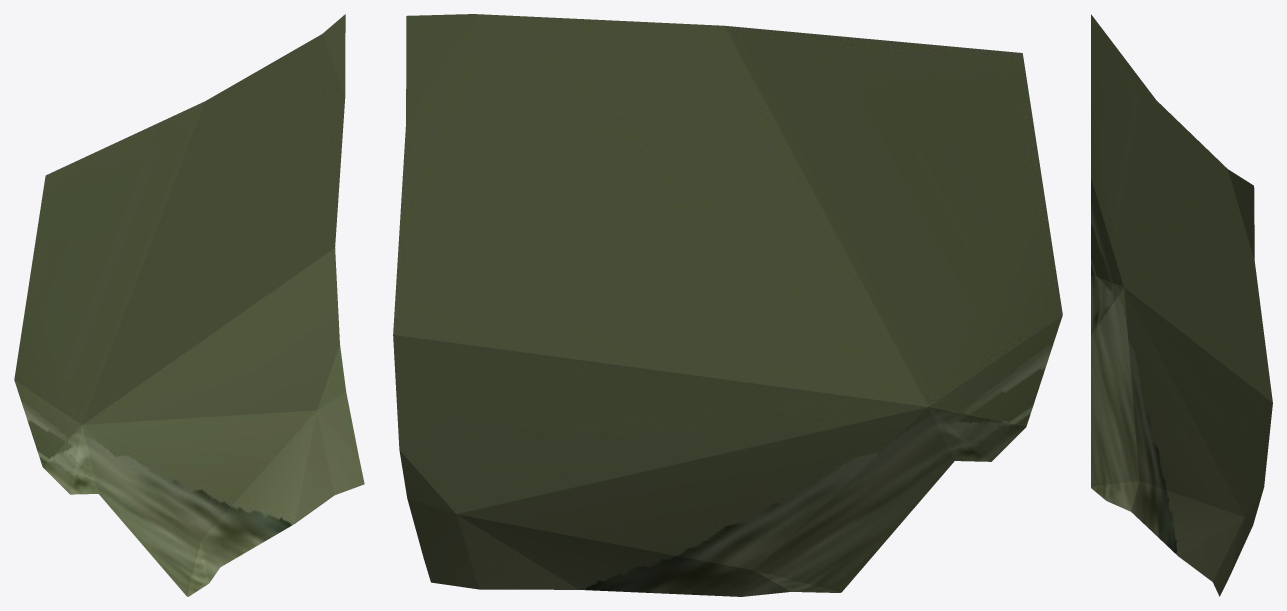
3 views of the same model, side by side, from view 1: azimuth 30°, elevation 25°; view 2: azimuth 150°, elevation 25°; view 3: azimuth 270°, elevation 25° (orthographic). The views are drawn at different scales.
Size of the model in its own units: 2.85 by 2.95 by 1.18.
3 materials, 3 textured.
